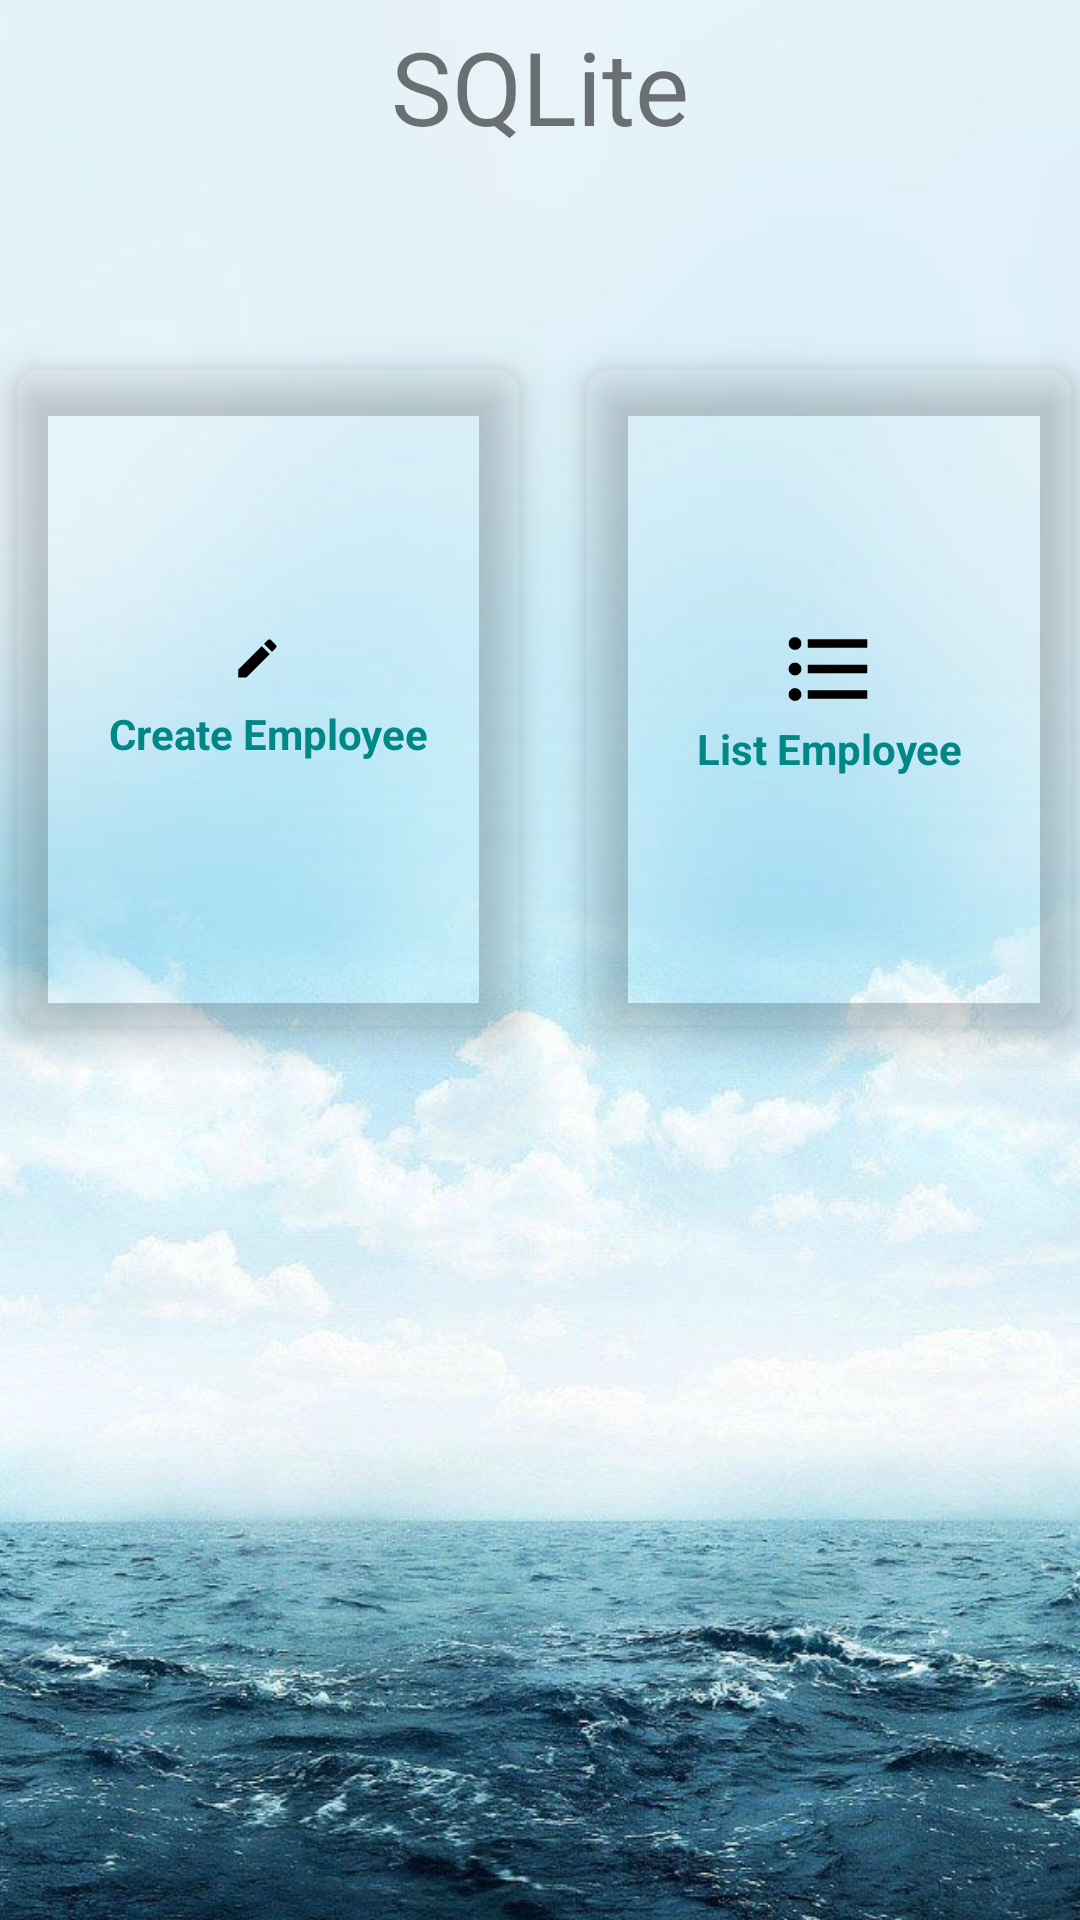

Icons on this 1080 x 1920 Android screen, each with the point to tap as point (x, y):
format list bulleted: point (828, 669)
